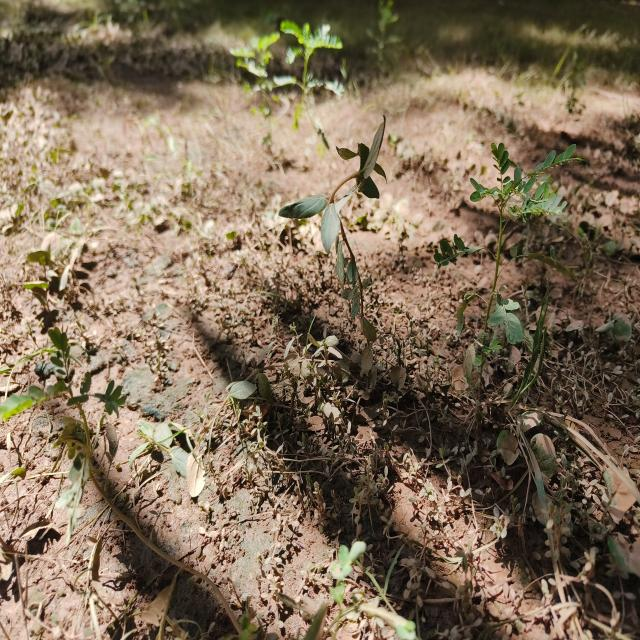weed: (435, 141, 584, 442), (0, 327, 131, 473)
